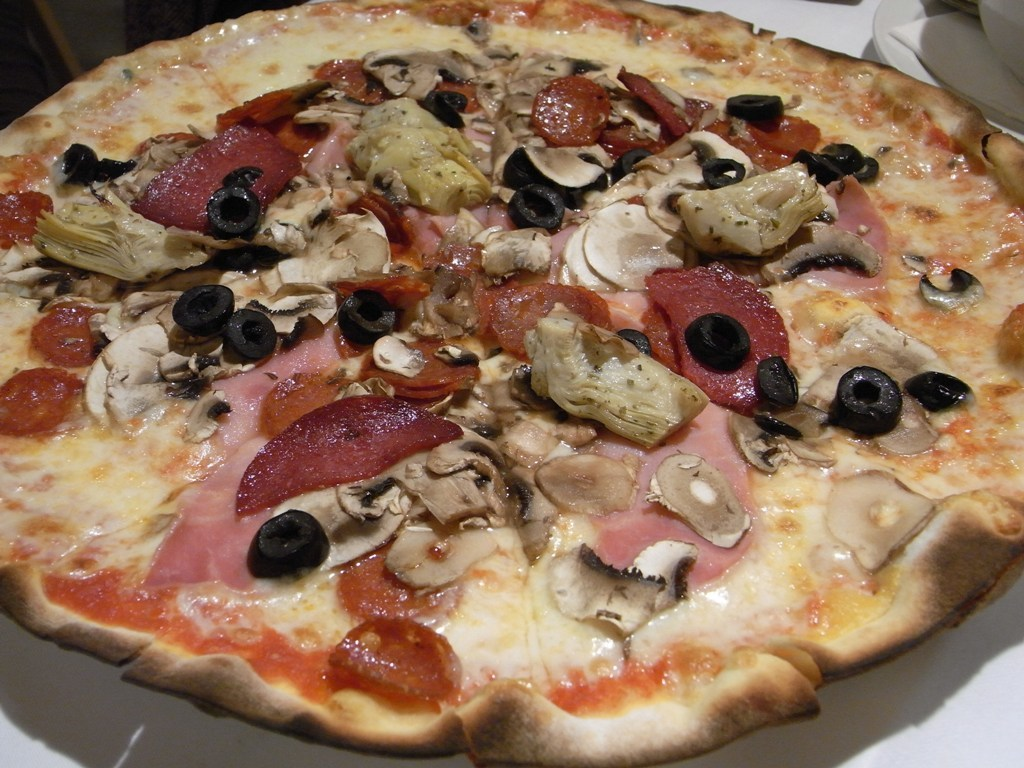pizza: (498, 285, 1017, 767), (7, 317, 474, 756), (0, 52, 443, 445), (172, 0, 635, 289), (522, 14, 1023, 278)
